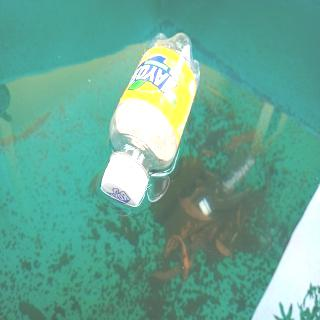bottle: (99, 28, 202, 210)
